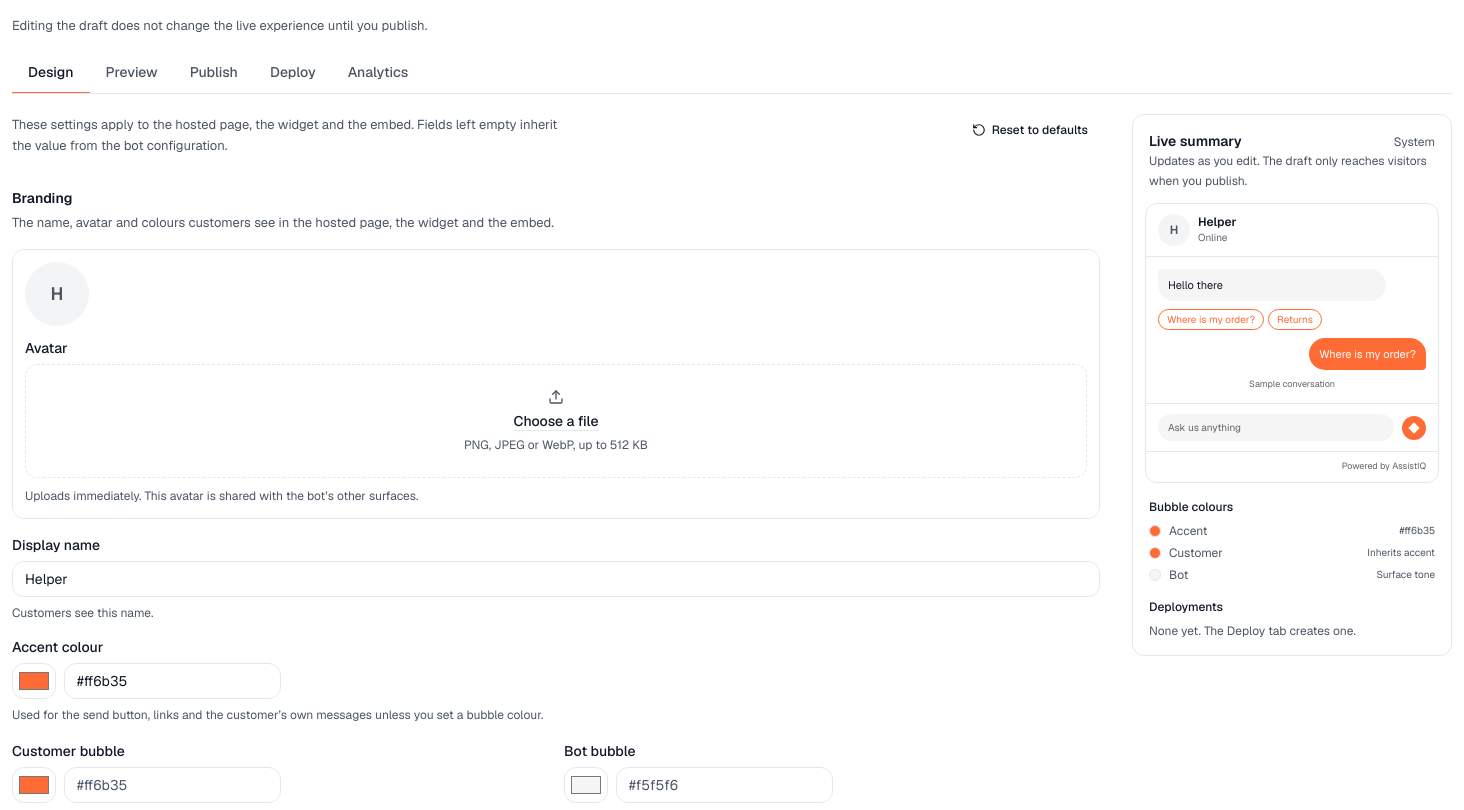
Test: Experience Preview tab › surfaces a failed test message inline and keeps the draft
This screenshot has width=1464, height=810.
Click the tab "Preview".
click(132, 72)  # box [90,52,174,94]
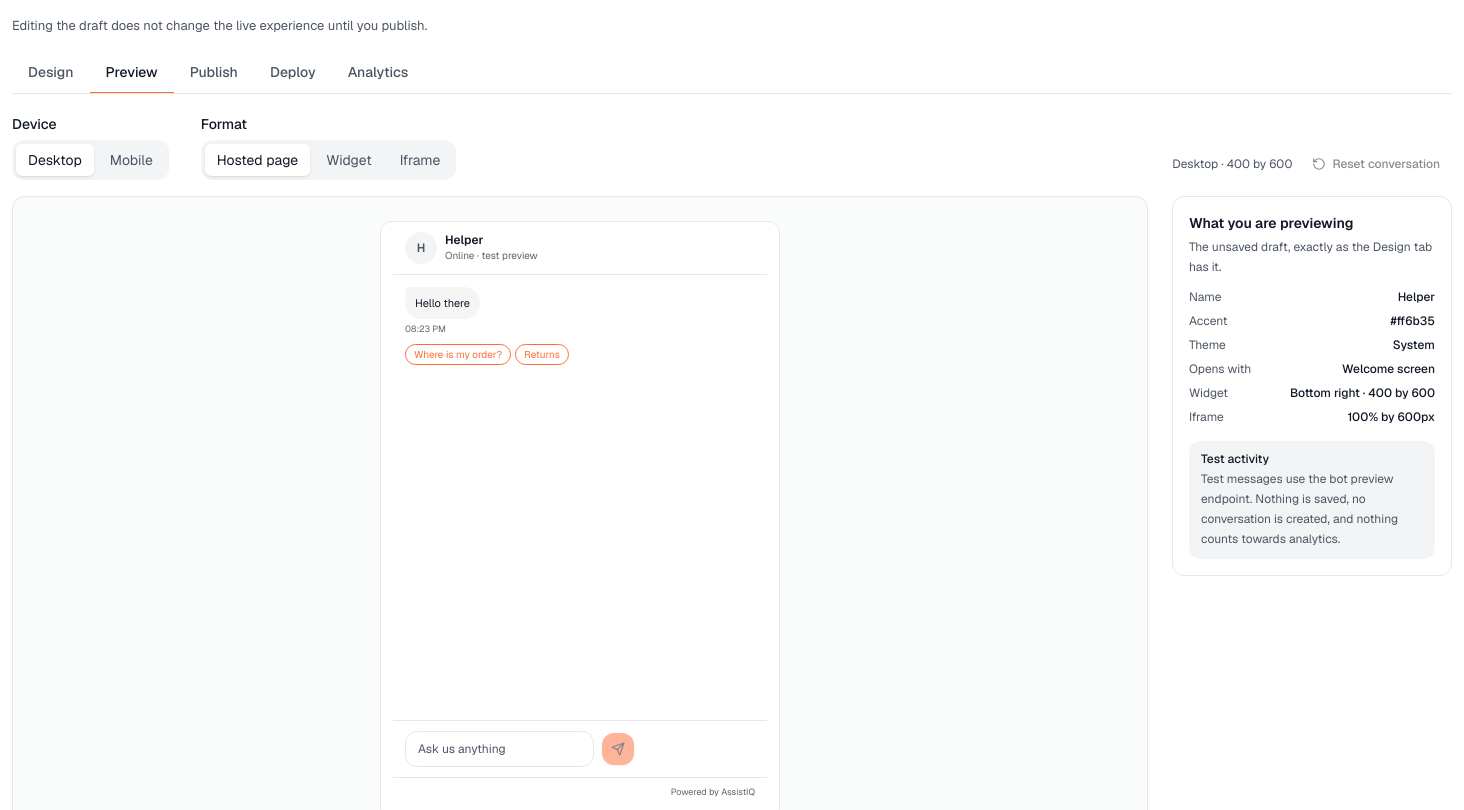
Type "hi" into the field named "Test message".
click(500, 749); type("hi")  # box [405,731,594,767]
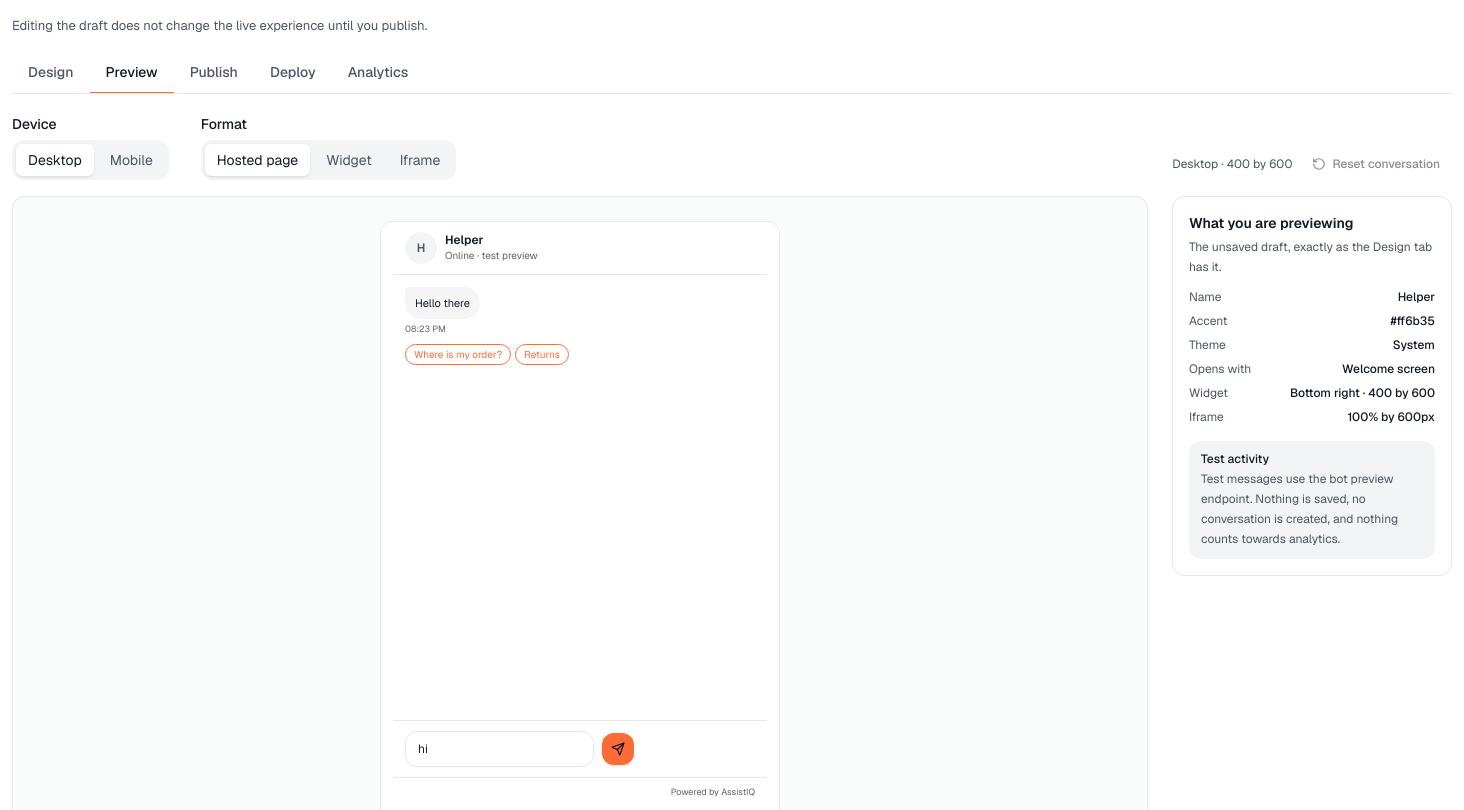
Click the button named "Send test message".
click(618, 749)  # box [602,733,634,765]
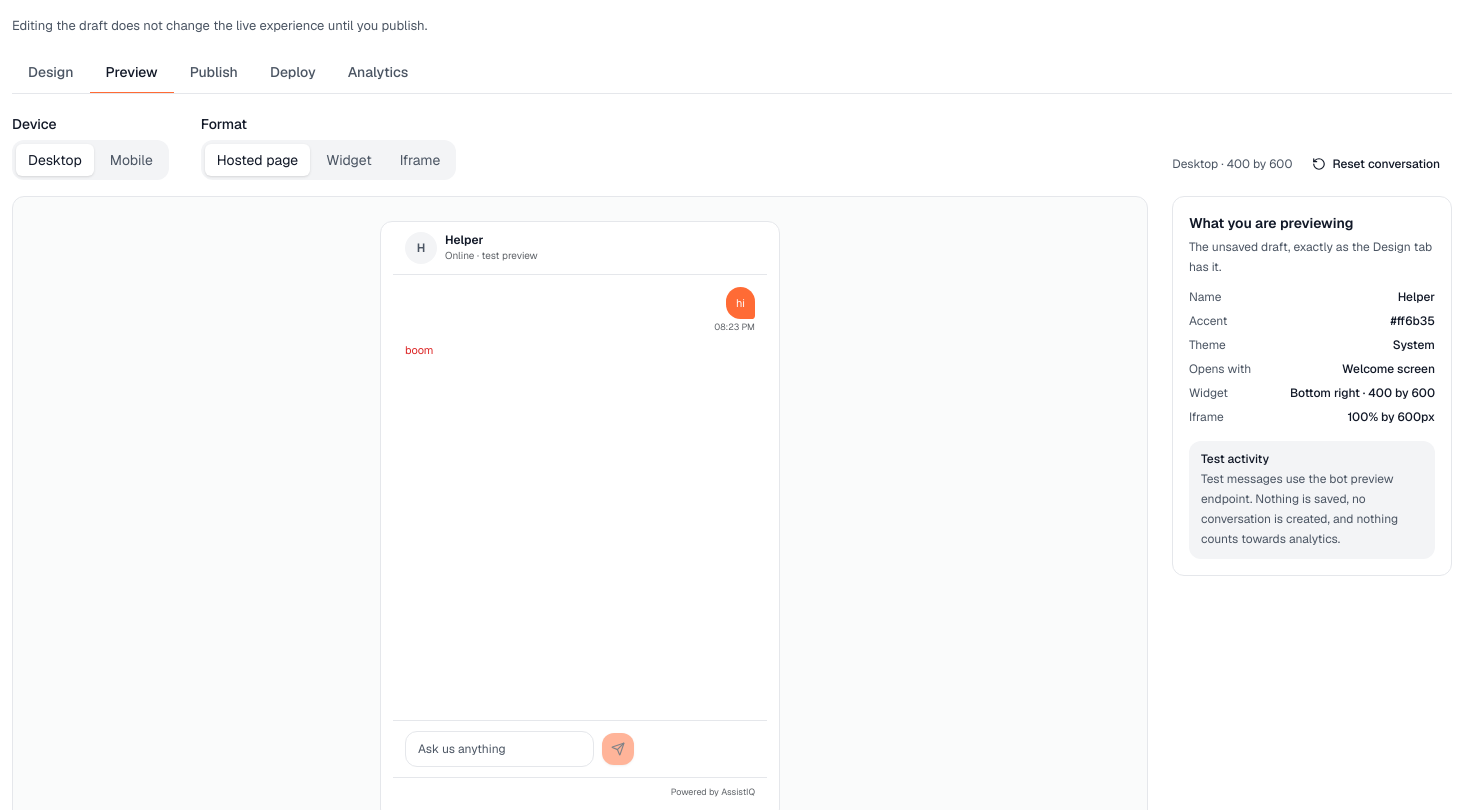
Expected: the tab "Design" is shown, [12,52,90,94]
Now the text "boom" is shown, box [405,343,434,357]
